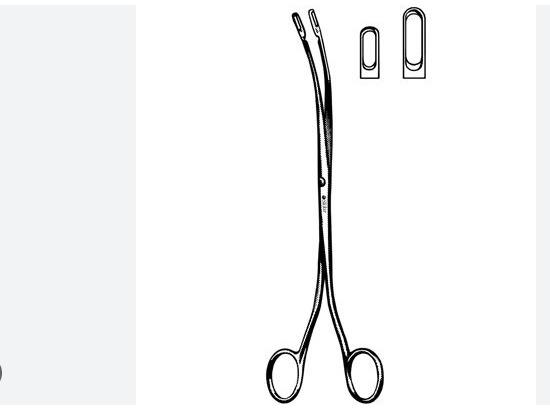Desjardin Forceps: (262, 2, 386, 403)
